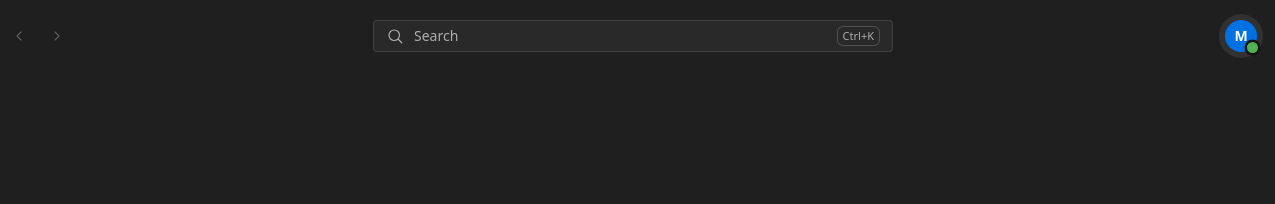
masks recent channel messages from blocked authors
Focus the field labelled "Search" at (620, 36), box [414, 26, 827, 46]
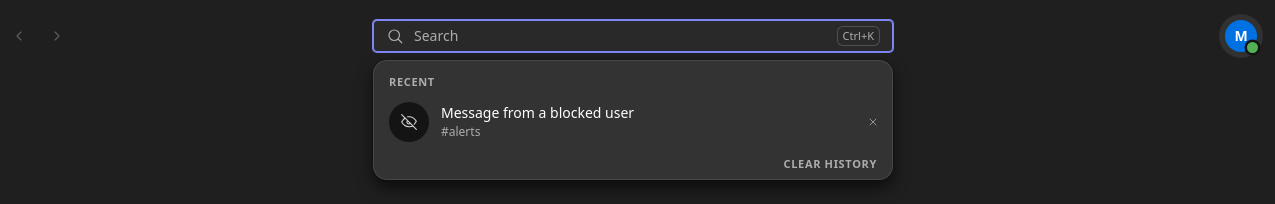
expect the text "Message from a blocked user" is shown: met, box [441, 103, 634, 123]
expect the text "#alerts" is shown: met, box [441, 123, 480, 140]
